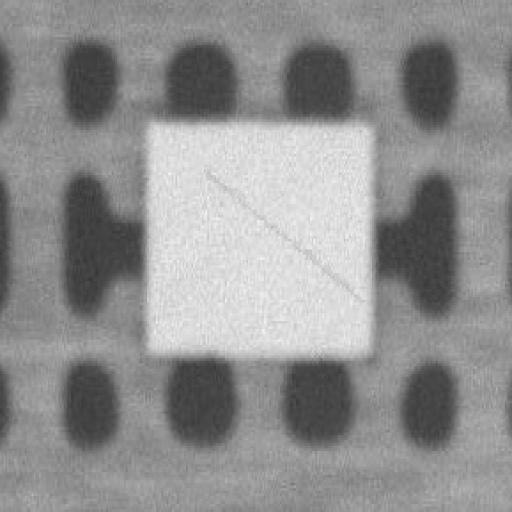DIE_CRACK: (303, 111, 512, 199)
